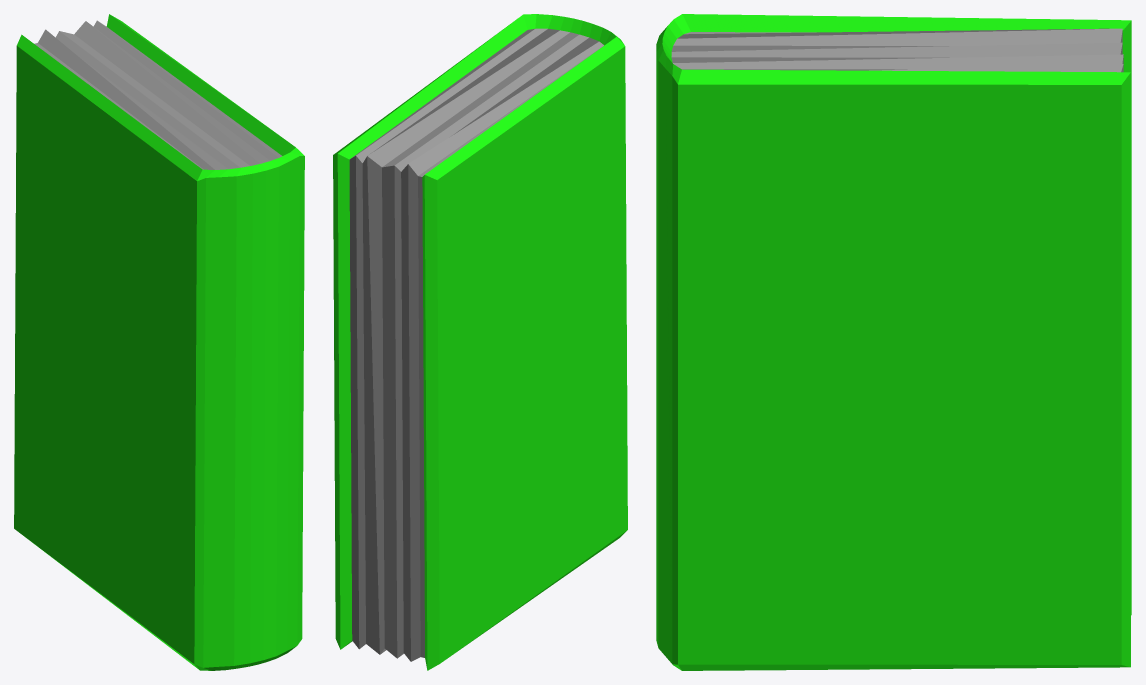
The model's file is book_001.FBX.
The picture shows the model from 3 angles, left to right: view 1: azimuth 30°, elevation 25°; view 2: azimuth 150°, elevation 25°; view 3: azimuth 270°, elevation 25°; orthographic projection. The views are drawn at different scales.
Visible parts, largest first — view 1: Book_002; view 2: Book_002; view 3: Book_002.
Part boxes in pixels (x1,y1,x2,y2): Book_002: [14, 14, 304, 670]; Book_002: [333, 14, 627, 670]; Book_002: [656, 14, 1131, 670].
Bounding box in the file's own units: 0.0671 × 0.2897 × 0.2066.
